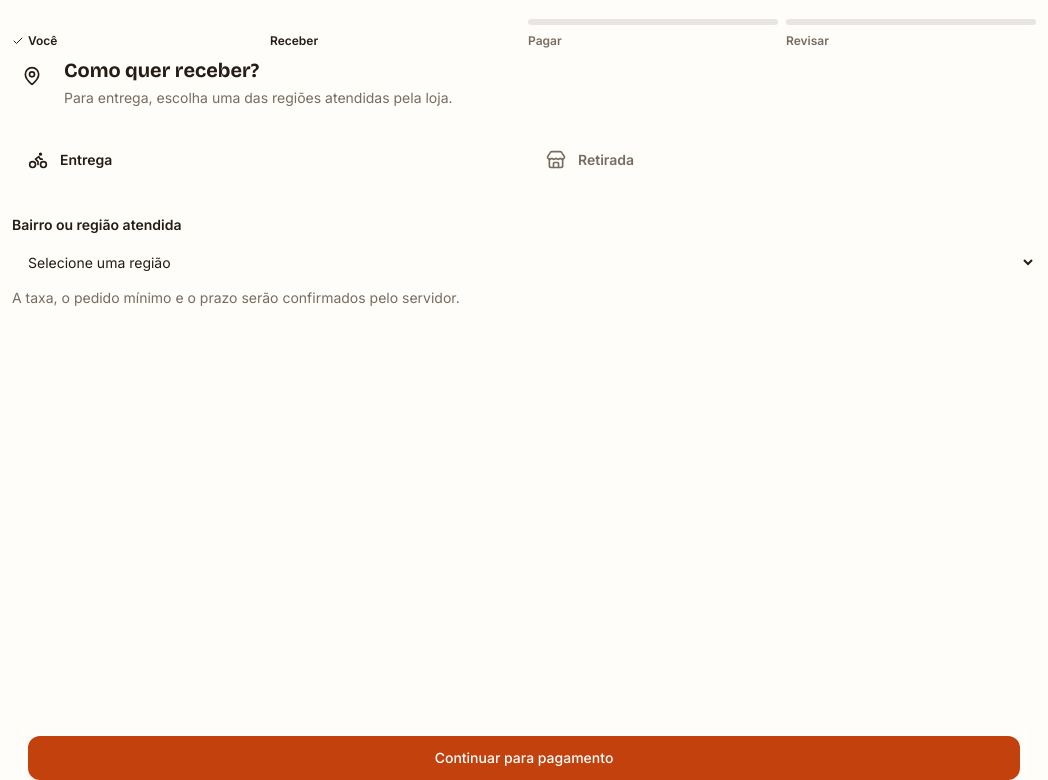
checkout público v2 › solicita a região antes de mostrar e validar o novo endereço
The image size is (1048, 780).
Expected: the field labelled "Rua" is not shown
Select "Centro · R$ 5,00" in the dropdown labelled "Bairro ou região atendida" at (524, 262), box [12,240,1036,284]
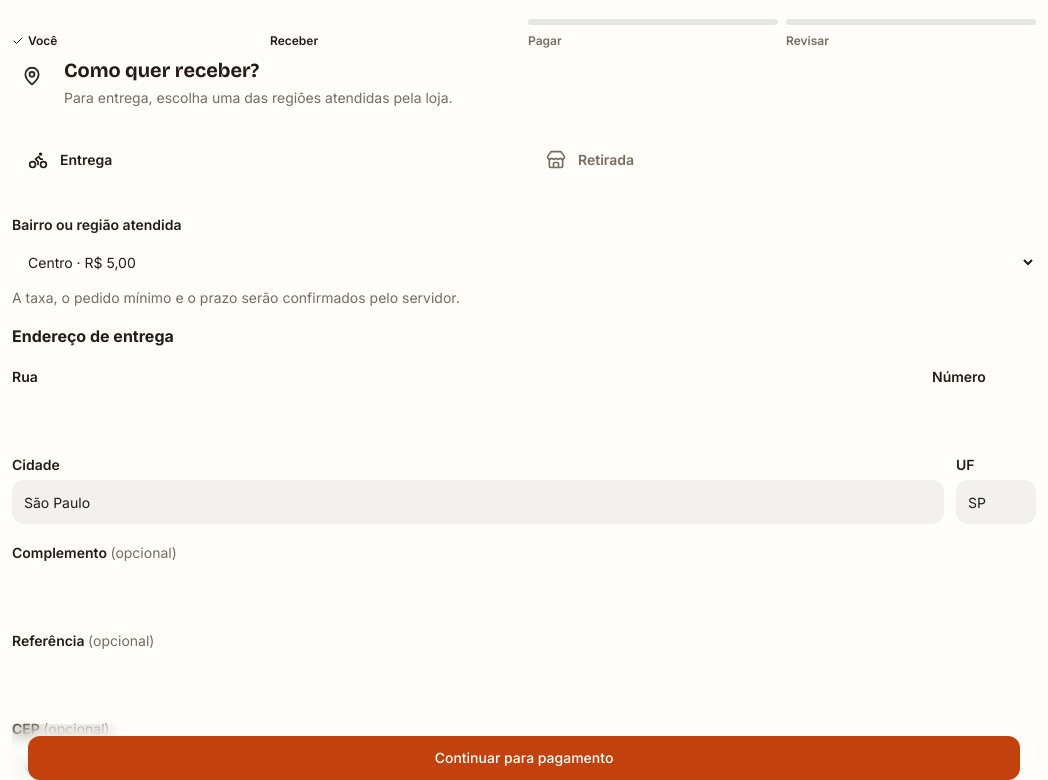
Click the button "Continuar para pagamento" at (524, 758), box [28,736,1020,779]
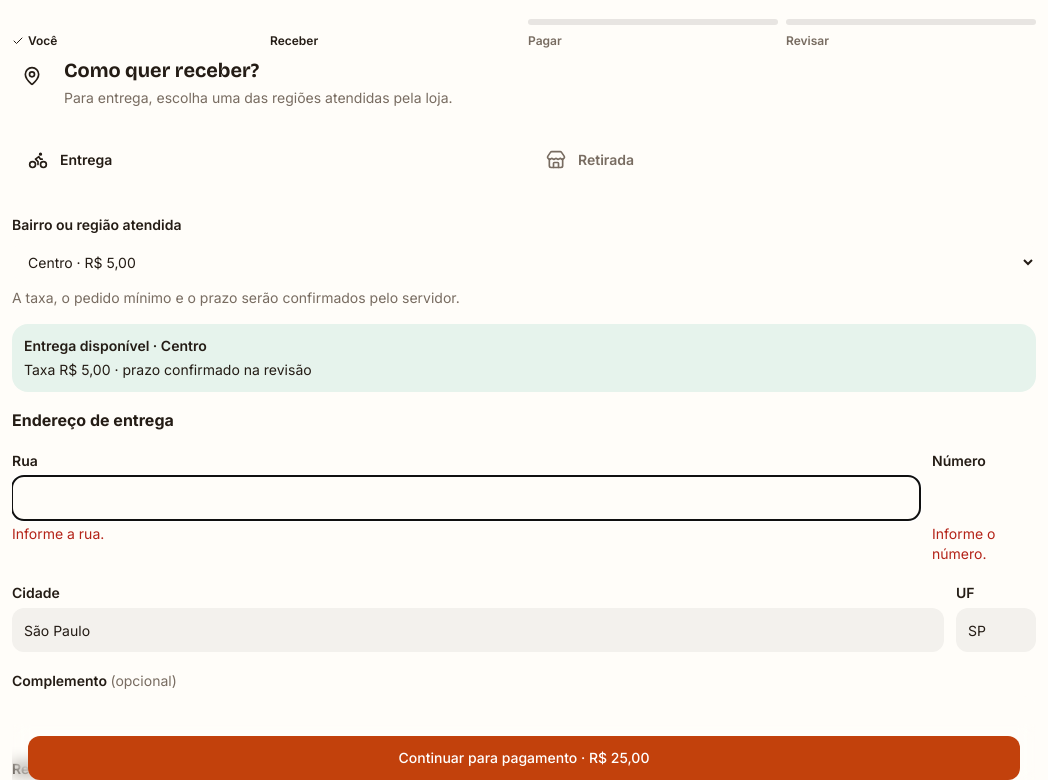
Expected: the heading "Como quer receber?" is shown, [64,58,259,82]
Now the text "Informe a rua." is shown, box [12,525,104,542]
